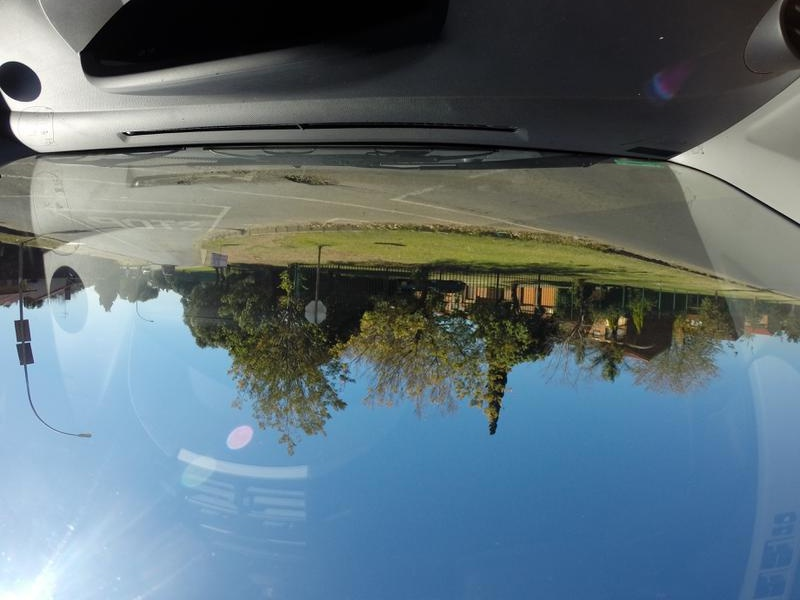pothole: (275, 172, 336, 189)
